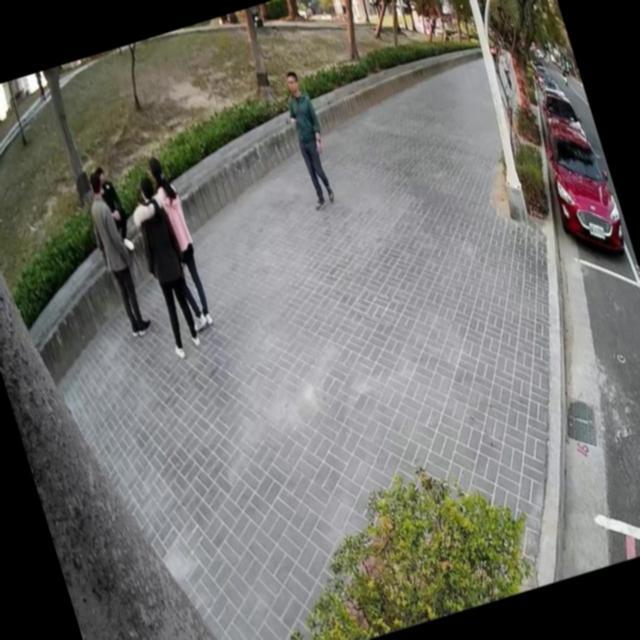person: (117, 167, 210, 360), (138, 148, 218, 334), (74, 164, 156, 343), (270, 62, 345, 215), (91, 160, 140, 256), (494, 43, 516, 89), (28, 71, 51, 105), (484, 37, 503, 74)
